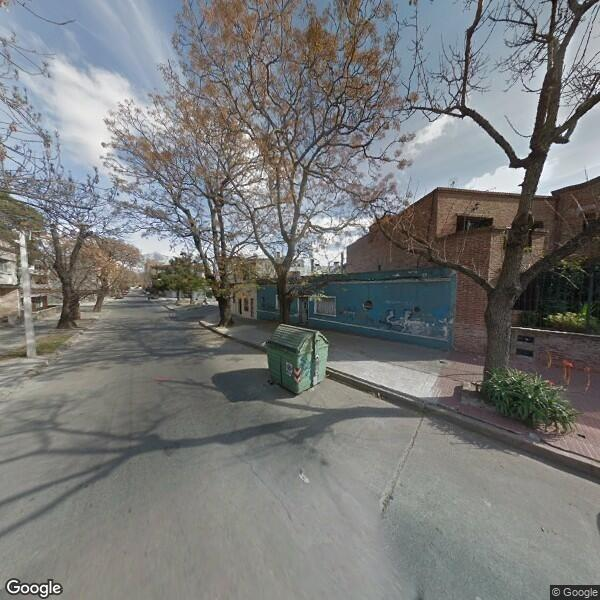Trash: (262, 322, 333, 406)
